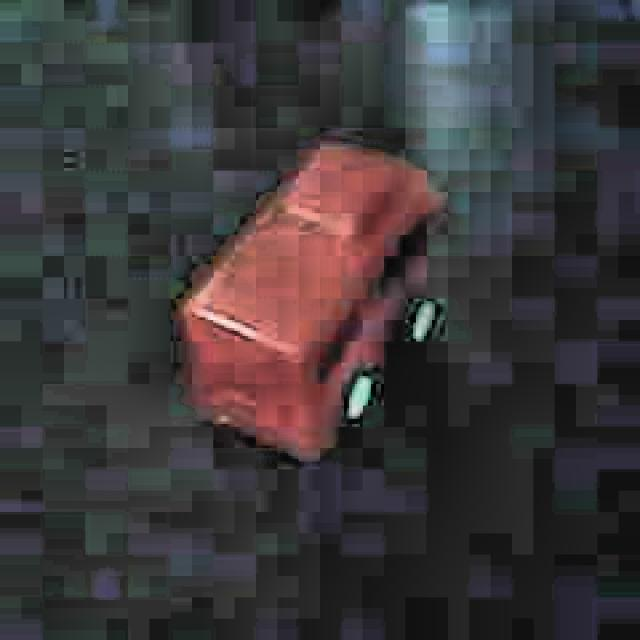bus: (163, 130, 453, 471)
